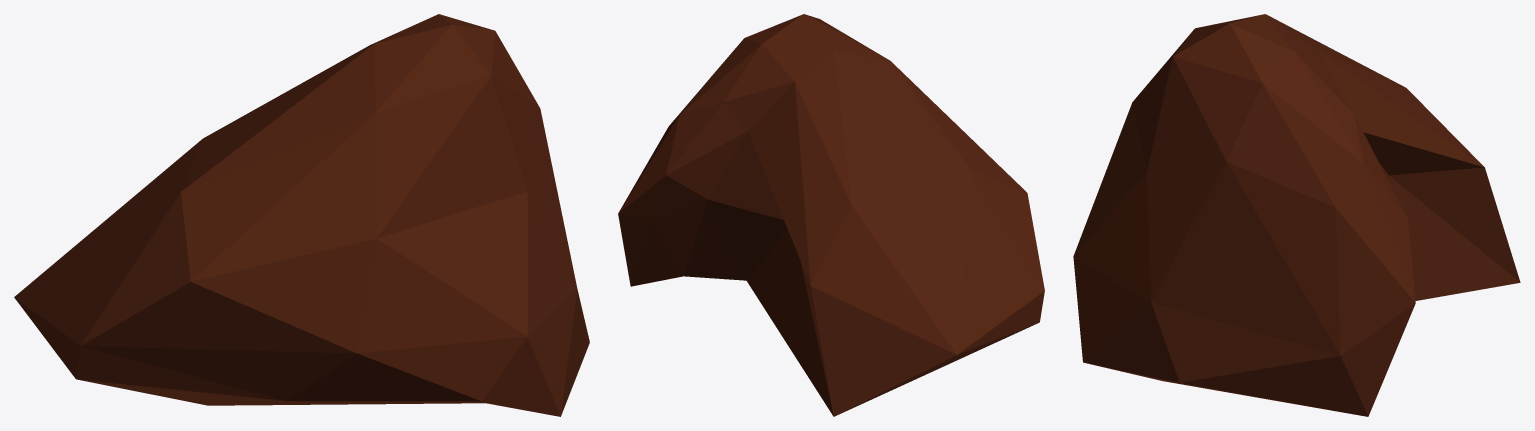
The model's file is PiedraNaranja.fbx.
3 views of the same model, side by side, from view 1: azimuth 30°, elevation 25°; view 2: azimuth 150°, elevation 25°; view 3: azimuth 270°, elevation 25° (orthographic). The views are drawn at different scales.
Visible parts, largest first — view 1: BrownRock3; view 2: BrownRock3; view 3: BrownRock3.
Boxes of the visible parts, x1=… form: BrownRock3: x1=14, y1=14, x2=589, y2=416; BrownRock3: x1=618, y1=14, x2=1044, y2=416; BrownRock3: x1=1073, y1=14, x2=1520, y2=416.
Size of the model in its own units: 564 by 406 by 460.
